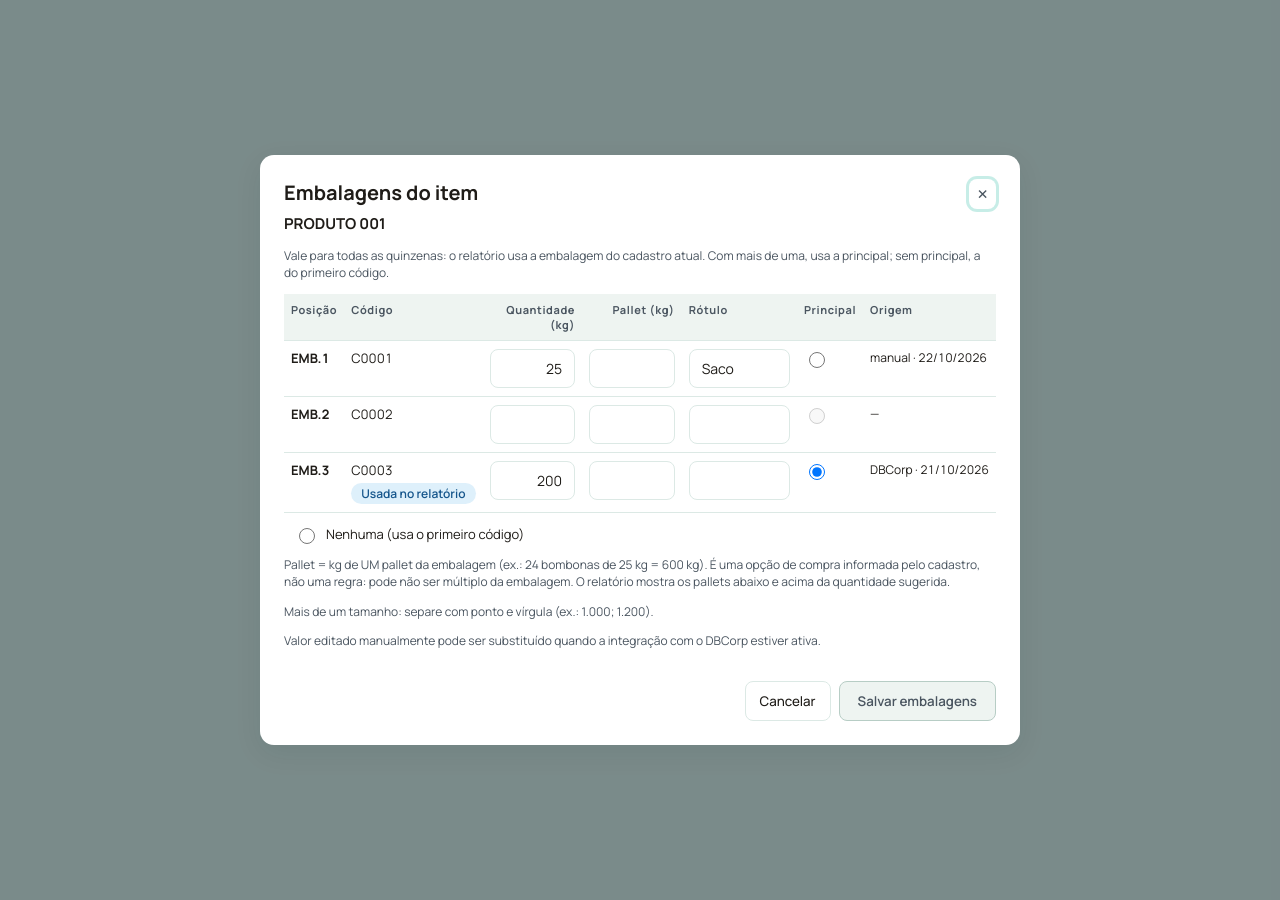
it: ForecastEmbalagensModal › quantidade "0" mostra o erro no campo e desabilita Salvar
Expected: the text "PRODUTO 001" is shown, [284,213,386,235]
Type "0" into the field named "Quantidade em kg do código C0002" at (532,424), box [490,405,575,444]
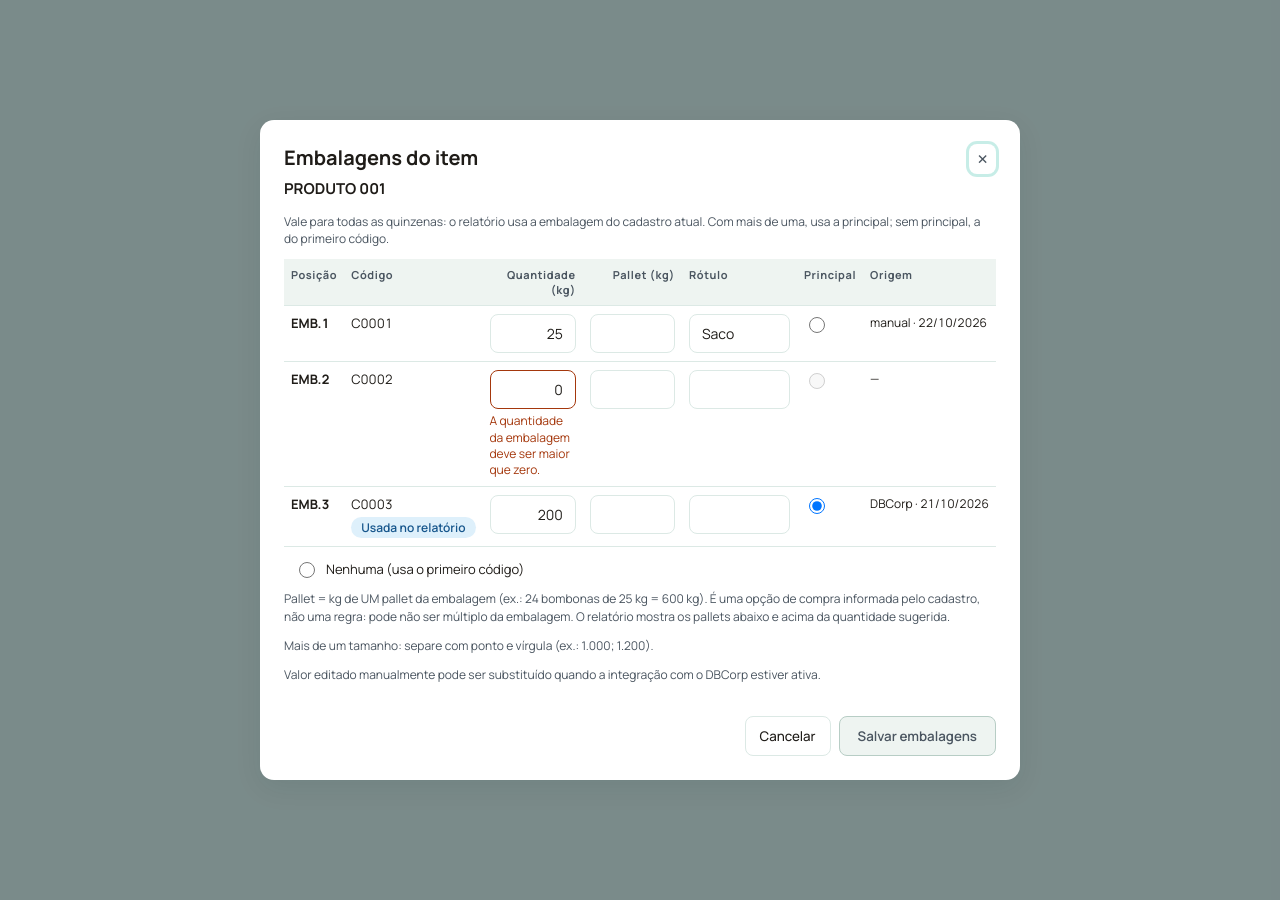
Expected: the button "Salvar embalagens" is disabled, [839,716,996,756]
Replace the text in the field named "Quantidade em kg do código C0002" with "10" at (533,390), box [490,370,576,410]
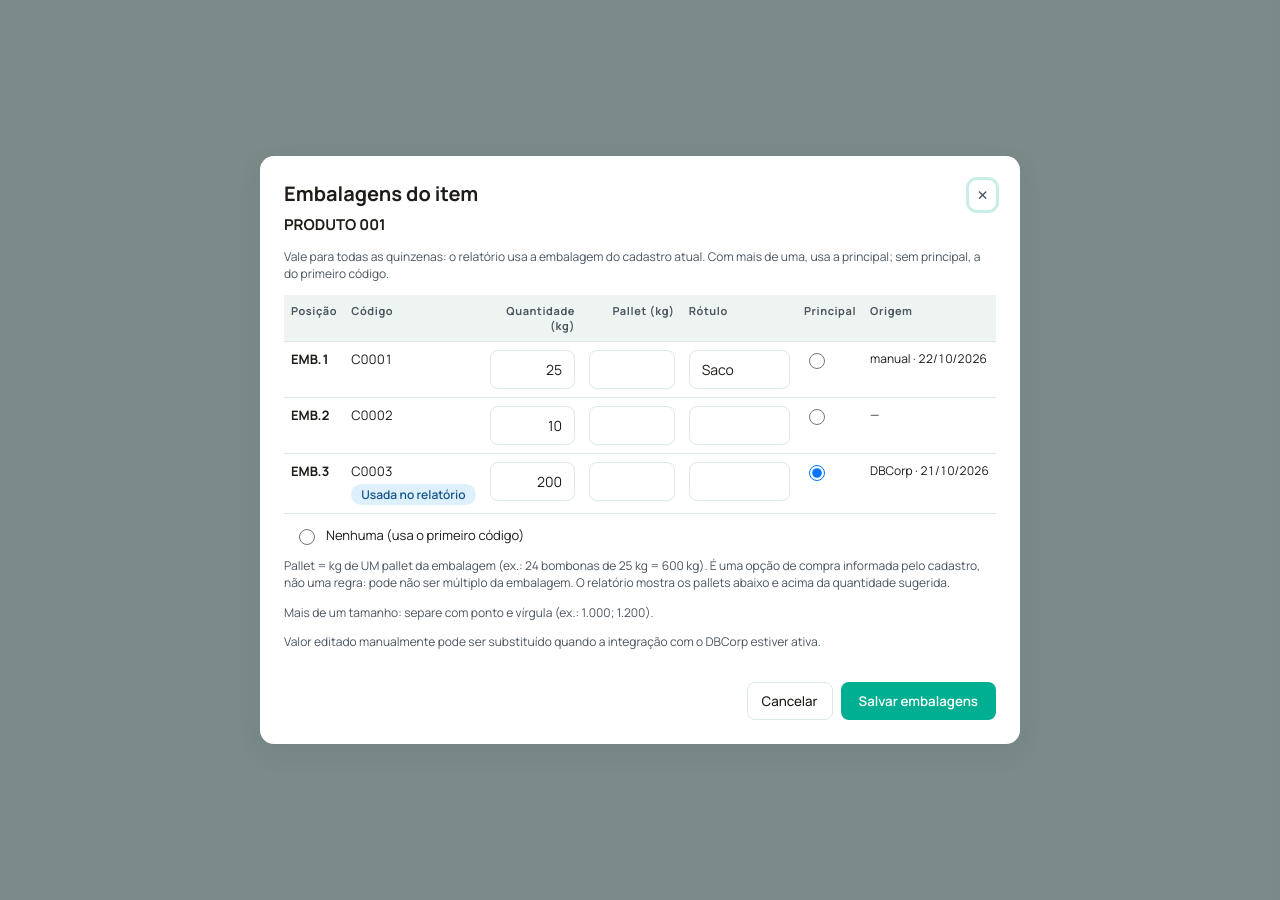
Now the text "A quantidade da embalagem deve ser maior que zero." is gone
Now the button "Salvar embalagens" is enabled, box [841,682,996,720]
